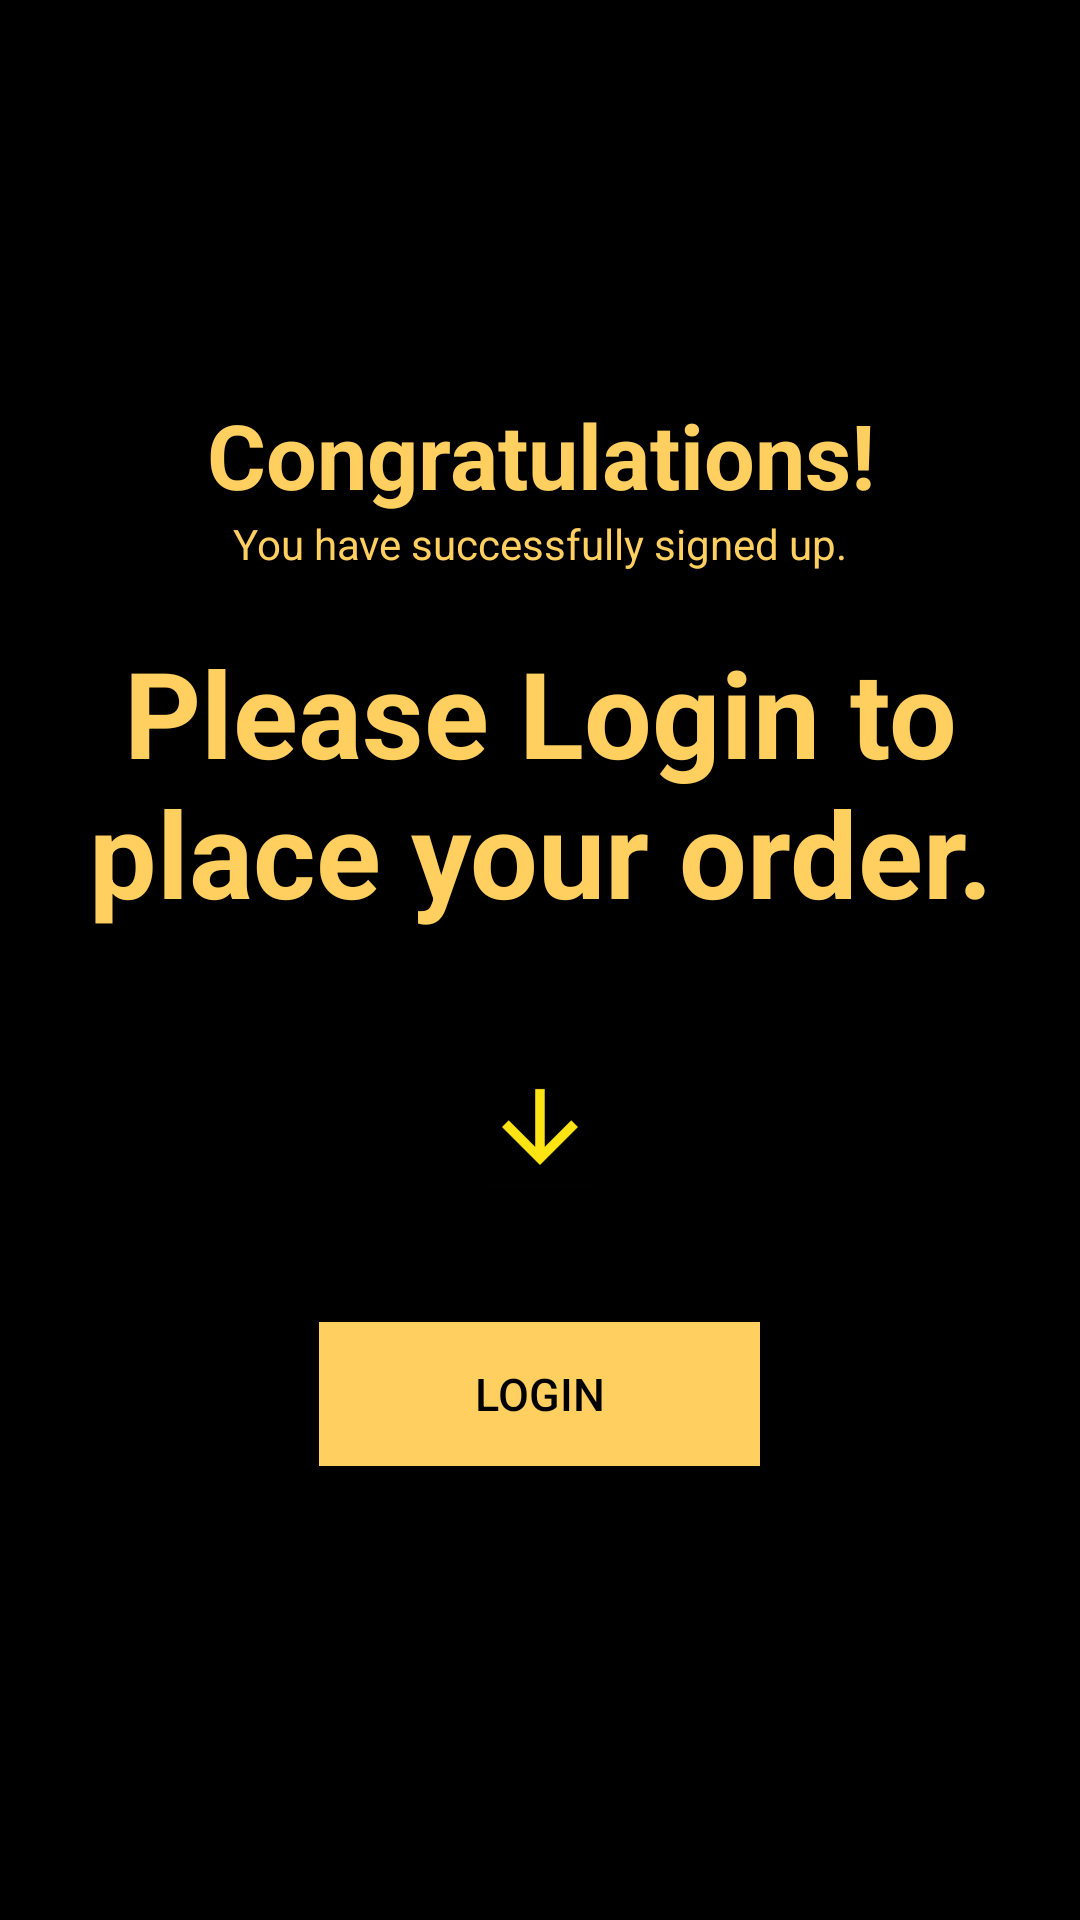

Locate icon controls on the screen. Image size 1080 x 1920, boxes as (x1, y1, x2, y2).
downarrow: (502, 1089, 578, 1165)
